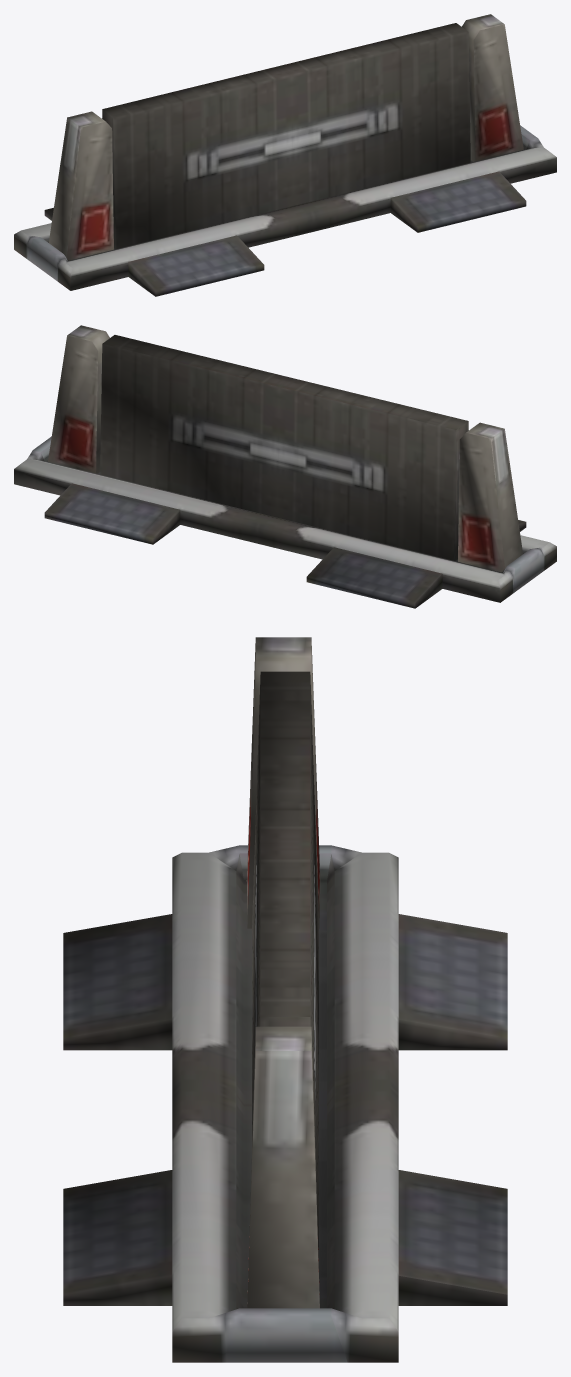
File: Part - Gates frame-sT3XBLIP.glb
3 renders of one model, top to bottom at view 1: azimuth 30°, elevation 25°; view 2: azimuth 150°, elevation 25°; view 3: azimuth 270°, elevation 25°, orthographic. The views are drawn at different scales.
Visible parts, largest first — view 1: Gates, Gates_frame, Gates_pillar_2, Gates_pillar_1; view 2: Gates, Gates_frame, Gates_pillar_2, Gates_pillar_1; view 3: Gates_frame, Gates, Gates_pillar_1, Gates_pillar_2.
Boxes of the visible parts, x1,y1,x2,y2 form: Gates: [102, 23, 470, 249]; Gates_frame: [14, 125, 556, 296]; Gates_pillar_2: [49, 111, 113, 260]; Gates_pillar_1: [462, 14, 523, 161]; Gates: [100, 335, 468, 560]; Gates_frame: [14, 436, 556, 608]; Gates_pillar_2: [458, 422, 522, 572]; Gates_pillar_1: [48, 325, 109, 473]; Gates_frame: [63, 845, 507, 1362]; Gates: [252, 671, 318, 1268]; Gates_pillar_1: [247, 1026, 319, 1308]; Gates_pillar_2: [246, 637, 320, 928].
Bounding box in the file's own units: 2.72 × 0.7499 × 1.07.
1 material, 1 textured.
